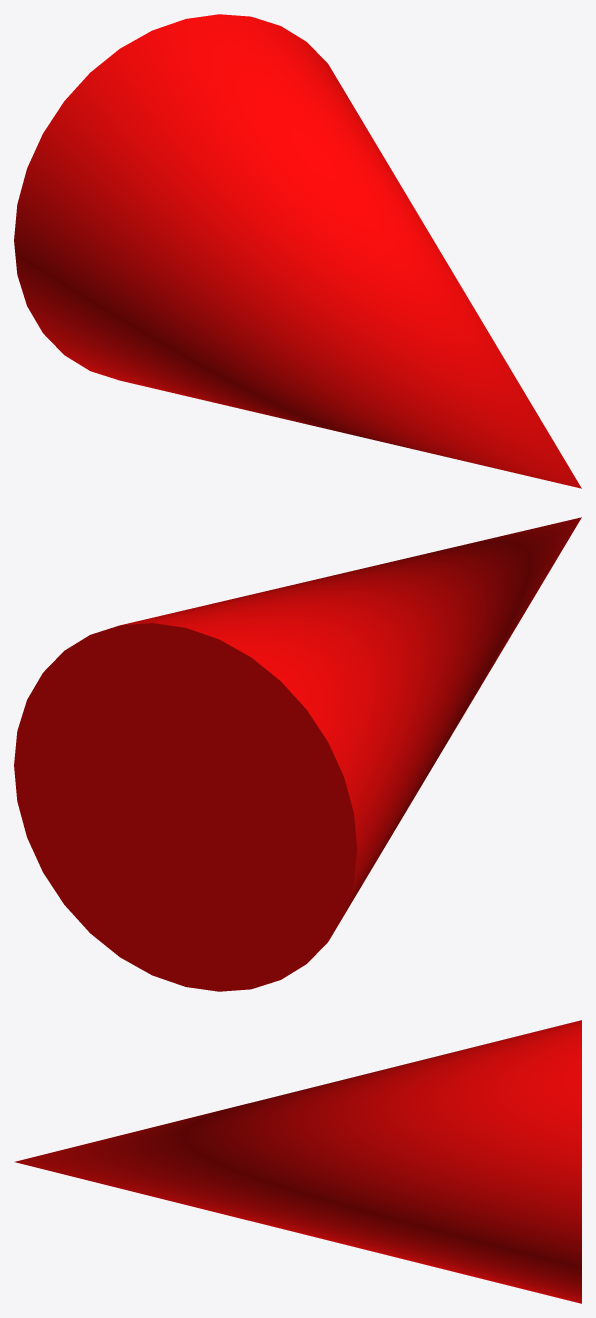
Rendered from red_cone.obj.
The picture shows the model from 3 angles, top to bottom: view 1: azimuth 30°, elevation 25°; view 2: azimuth 150°, elevation 25°; view 3: azimuth 270°, elevation 25°; orthographic projection. The views are drawn at different scales.
Size of the model in its own units: 0.2 by 0.2 by 0.4.
